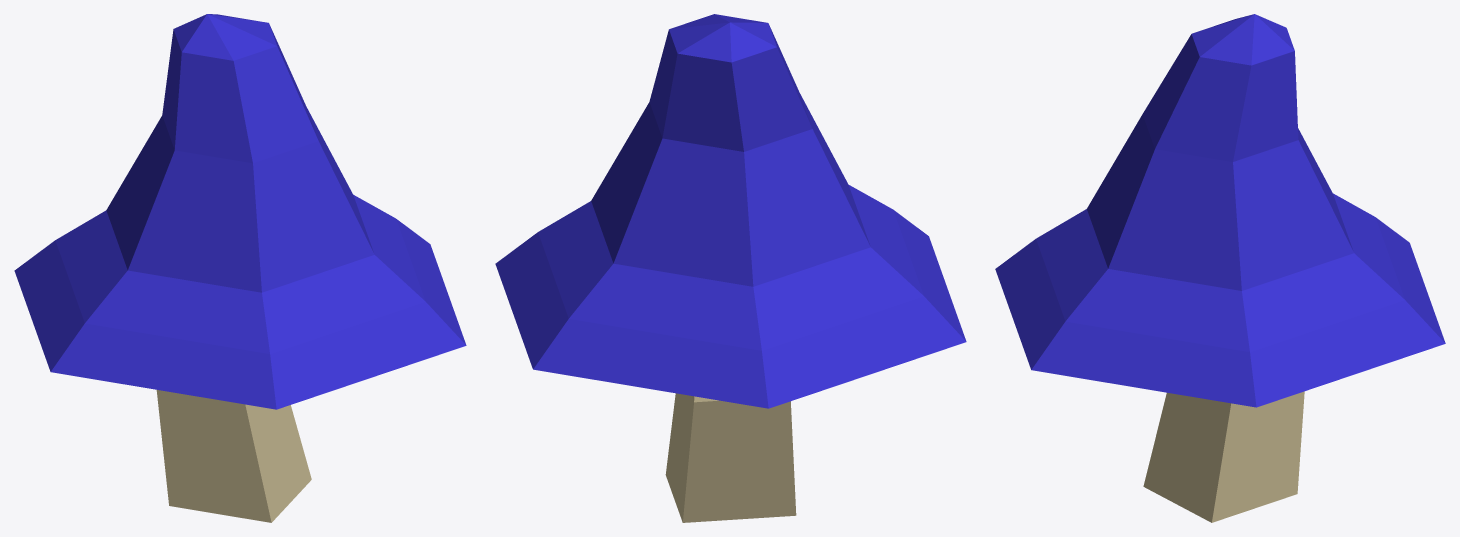
Rendered from Mushroom_03.fbx.
3 renders of one model, left to right at view 1: azimuth 30°, elevation 25°; view 2: azimuth 150°, elevation 25°; view 3: azimuth 270°, elevation 25°, orthographic. The views are drawn at different scales.
Parts seen in each view (by area): view 1: Cube; view 2: Cube; view 3: Cube.
Part boxes in pixels (left/top/right/bottom): Cube: left=14, top=14, right=466, bottom=522; Cube: left=495, top=14, right=966, bottom=522; Cube: left=995, top=14, right=1445, bottom=522.
Size of the model in its own units: 119 by 129 by 112.
